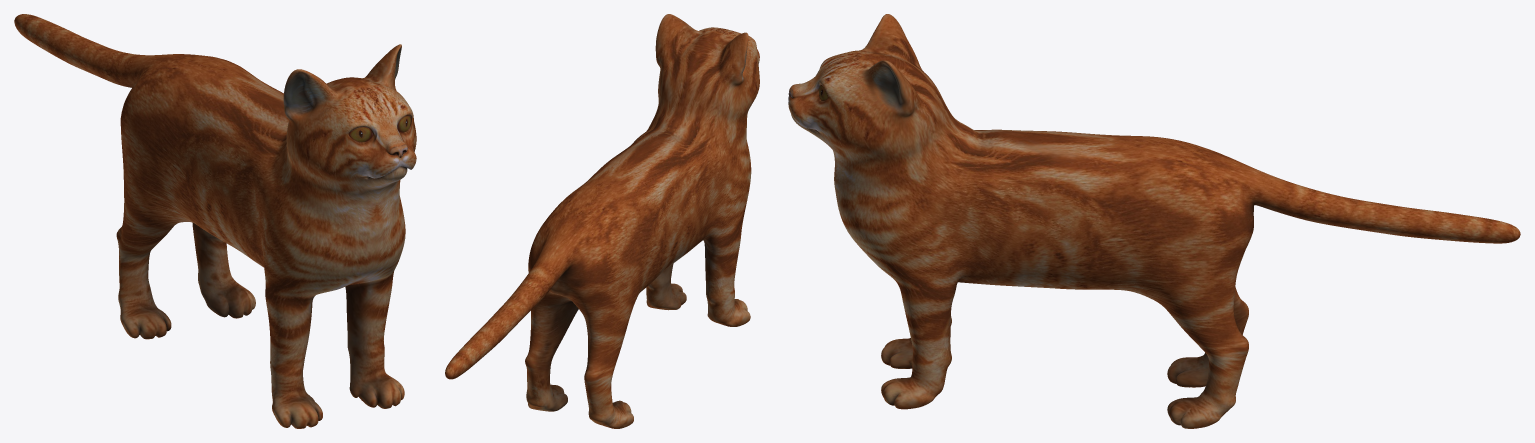
The model's file is gato4.glb.
3 views of the same model, side by side, from view 1: azimuth 30°, elevation 25°; view 2: azimuth 150°, elevation 25°; view 3: azimuth 270°, elevation 25° (orthographic). The views are drawn at different scales.
Visible parts, largest first — view 1: 12221_Cat_v1_l3; view 2: 12221_Cat_v1_l3; view 3: 12221_Cat_v1_l3.
Part boxes in pixels (x1,y1,x2,y2): 12221_Cat_v1_l3: [14, 14, 416, 428]; 12221_Cat_v1_l3: [445, 14, 759, 428]; 12221_Cat_v1_l3: [788, 14, 1520, 428].
Bounding box in the file's own units: 0.7482 × 2.16 × 3.94.
1 material, 1 textured.
